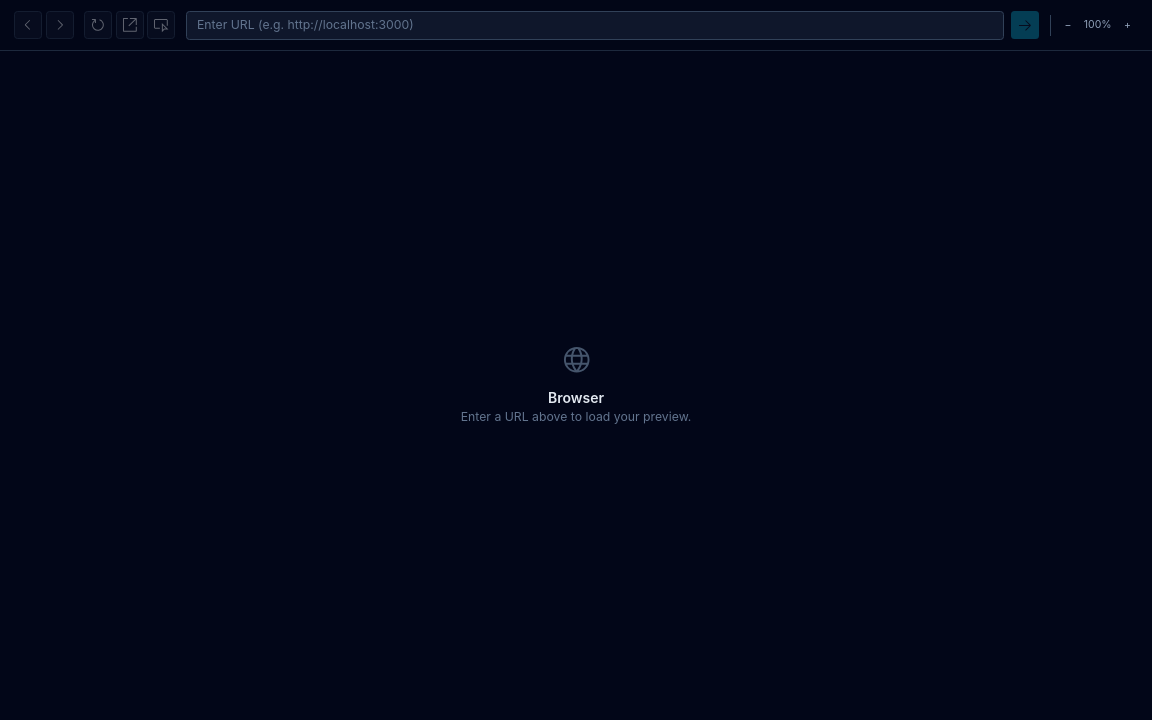
Test: WebPreviewPanel › shows error for invalid URLs
Type "ftp://invalid-protocol" into the field named "Preview URL" at (595, 25), box [186,10,1004,40]
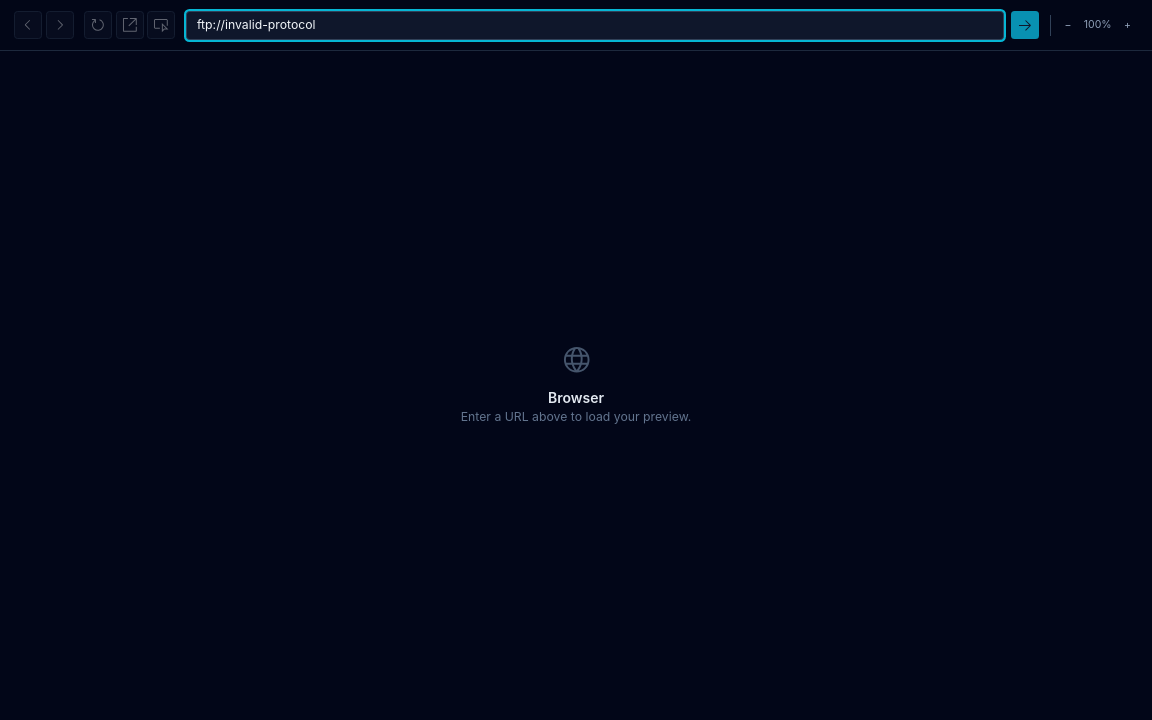
Click the button named "Navigate" at (1025, 25), box [1011,11,1039,39]
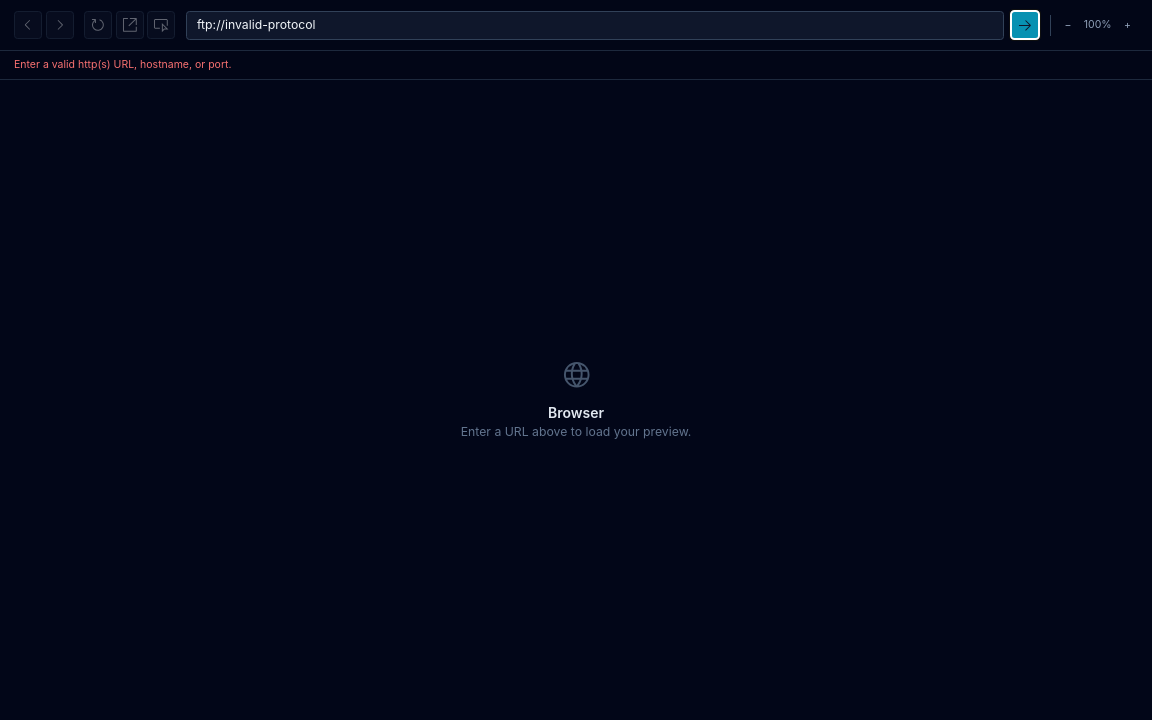
Expected: the text "Enter a valid http(s) URL, hostname, or port." is shown, [0,51,1151,80]
